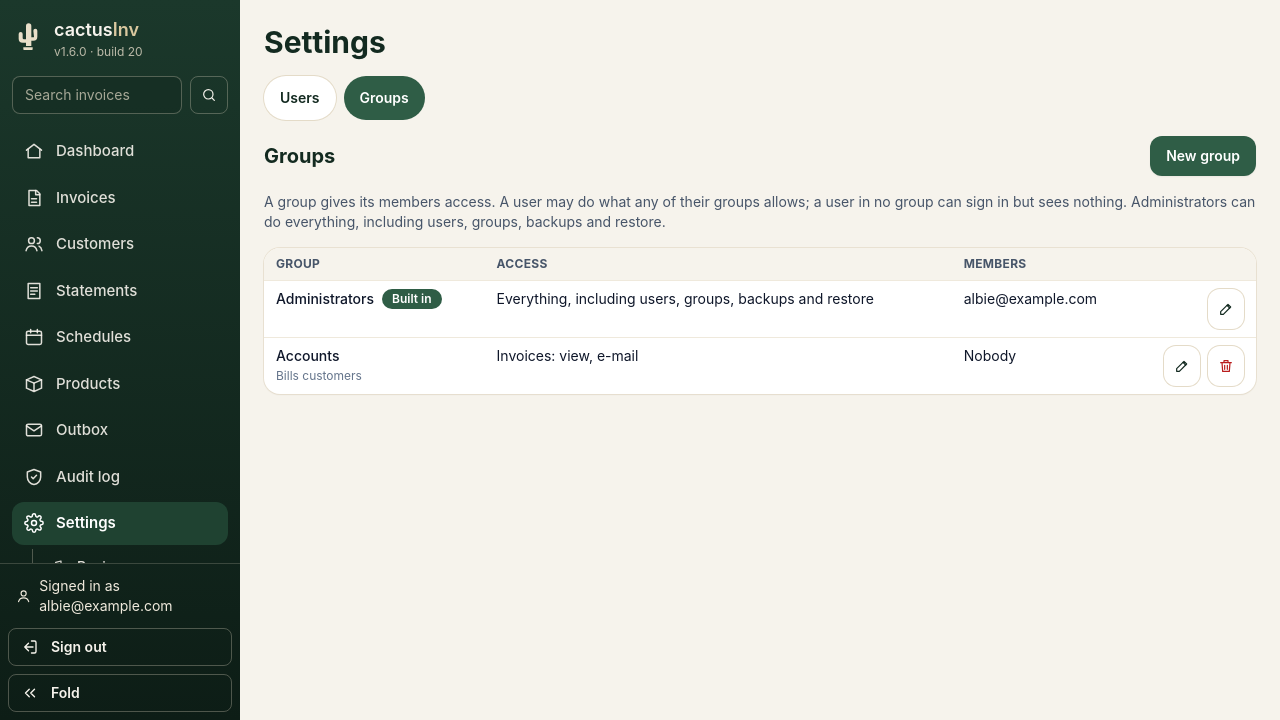
Test: deletes a group after your password
This screenshot has width=1280, height=720.
Click the button named "Delete Accounts" at [1226, 366], box [1208,346,1244,386]
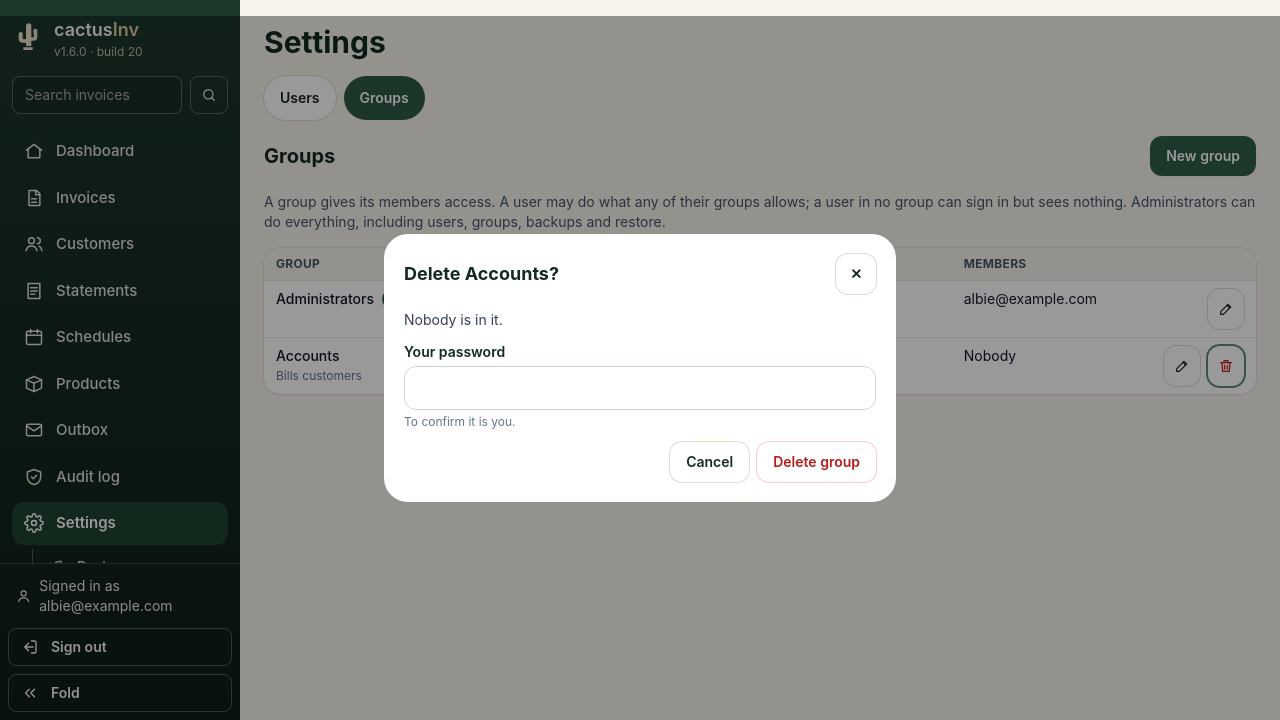
Type "correct horse battery" into the password field labelled "Your password" at [640, 388], box [404,366,876,410]
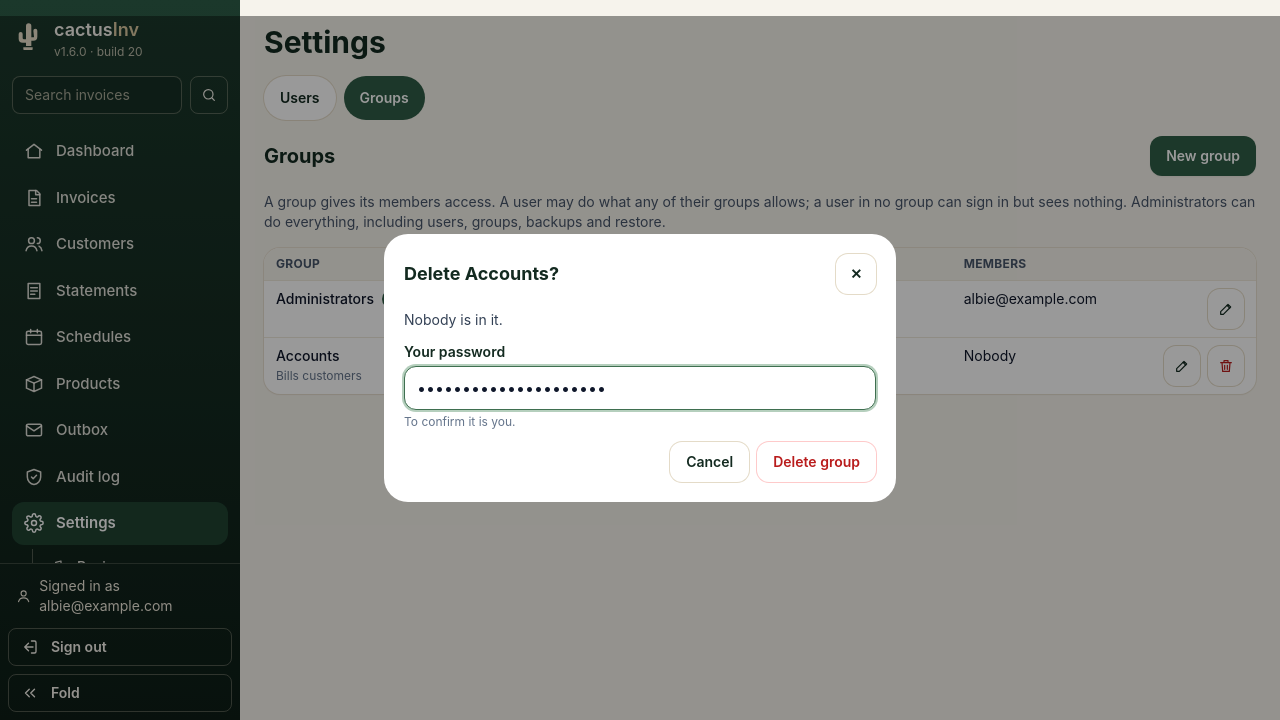
Click the button "Delete group" at [817, 462], box [757,442,876,482]
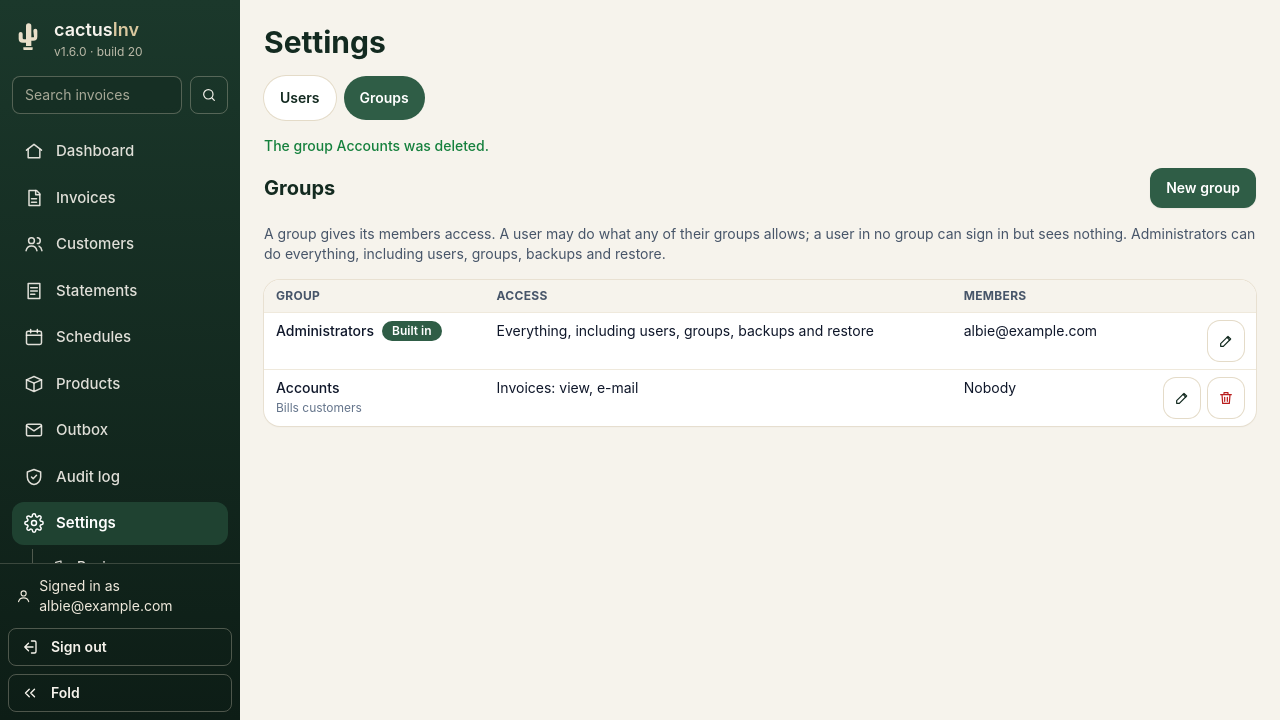
Expected: the text "The group Accounts was deleted." is shown, [264,137,489,154]
